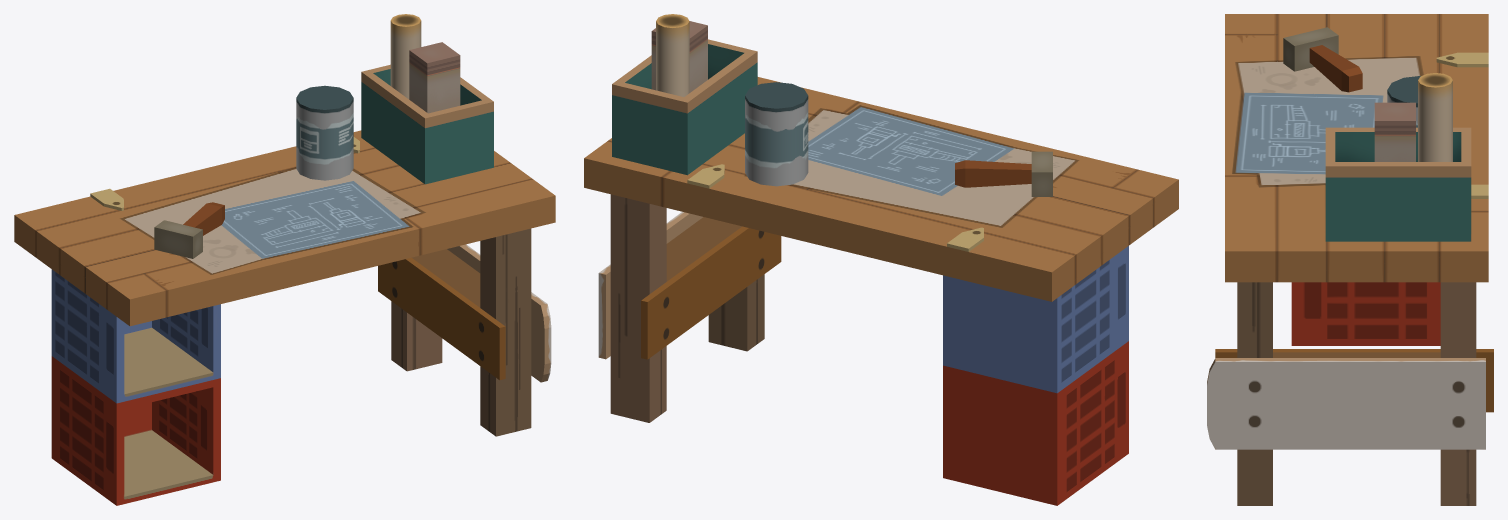
File: Crafting.fbx
3 views of the same model, side by side, from view 1: azimuth 30°, elevation 25°; view 2: azimuth 150°, elevation 25°; view 3: azimuth 270°, elevation 25° (orthographic). The views are drawn at different scales.
Parts seen in each view (by area): view 1: crafting_table; view 2: crafting_table; view 3: crafting_table.
Boxes of the visible parts, <box> form: crafting_table: <box>14,14,555,505</box>; crafting_table: <box>584,14,1178,505</box>; crafting_table: <box>1207,14,1493,505</box>.
Bounding box in the file's own units: 11.35 × 9.01 × 5.8.
